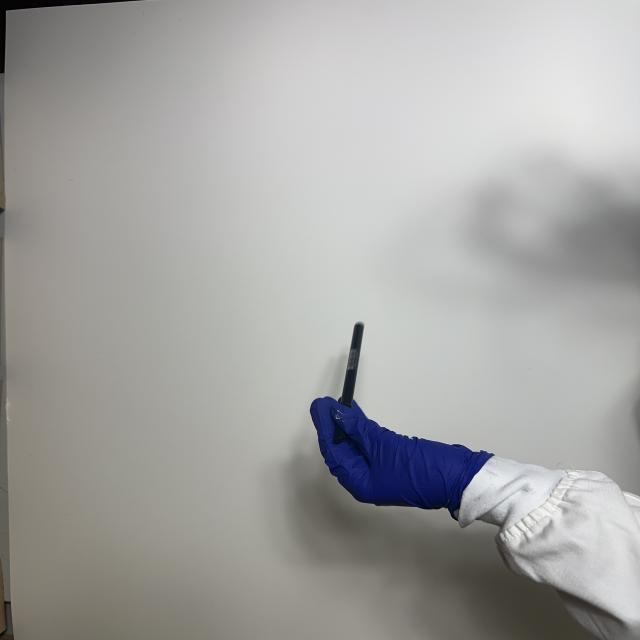gloves_contaminated: (310, 396, 493, 518)
